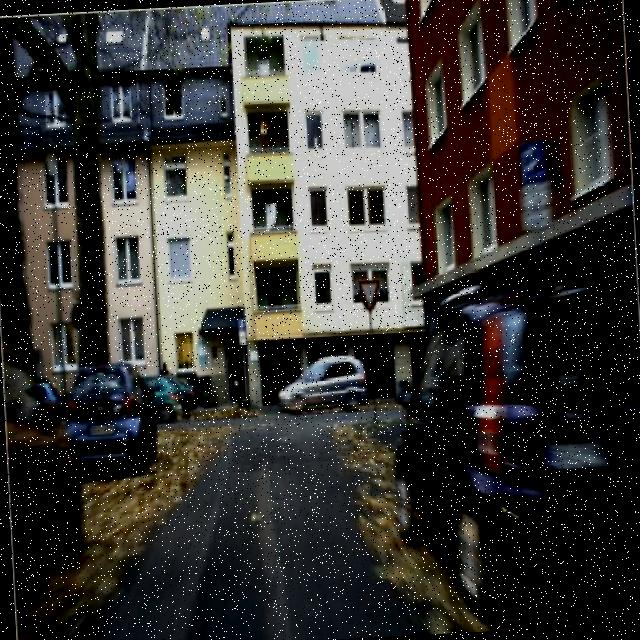Ustap pierwszenstwa: (356, 275, 385, 315)
